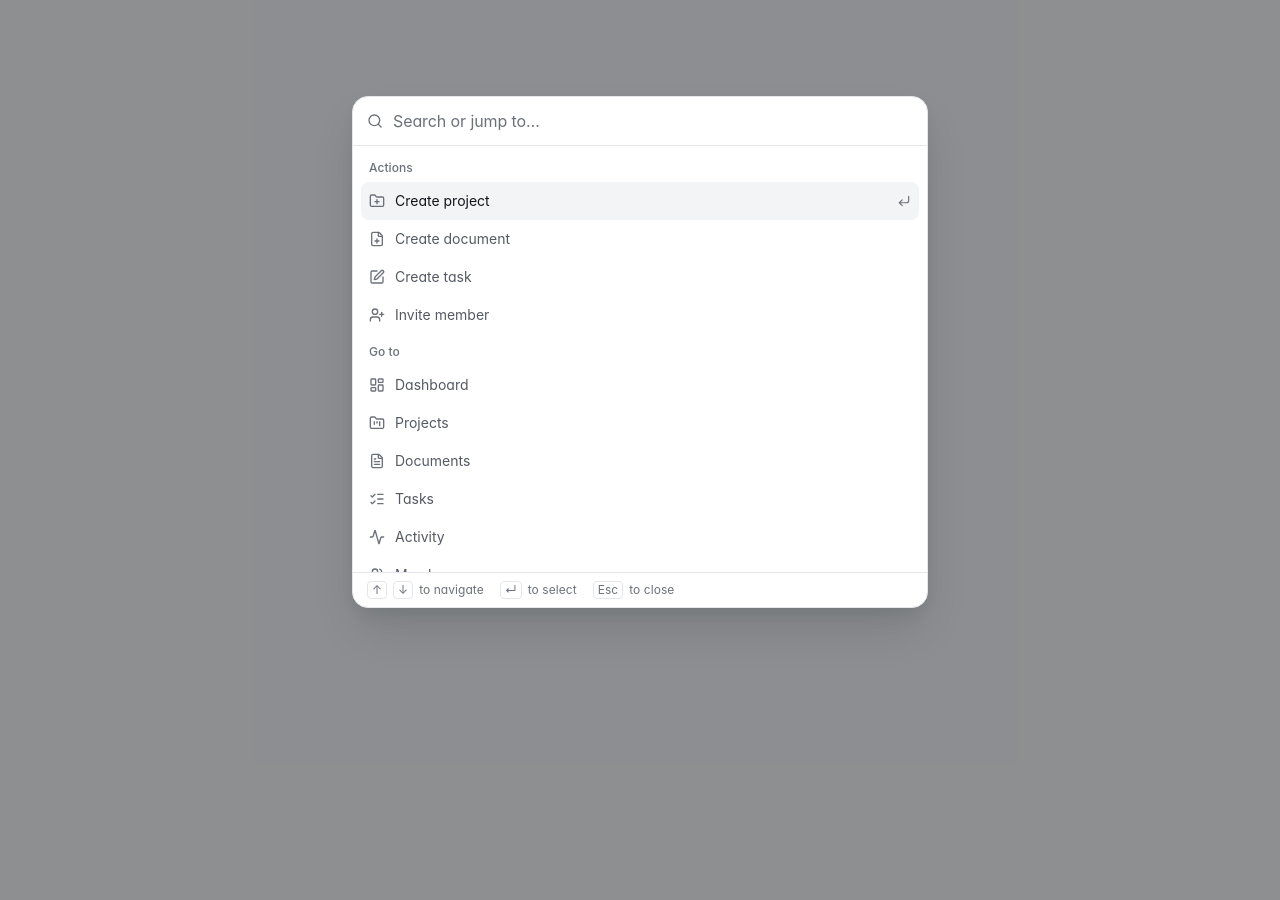
Test: CommandMenu › searching › explains an empty result rather than showing a blank panel
This screenshot has width=1280, height=900.
Type "zzzzqqq" into the dropdown at [653, 121], box [393,97,913,145]
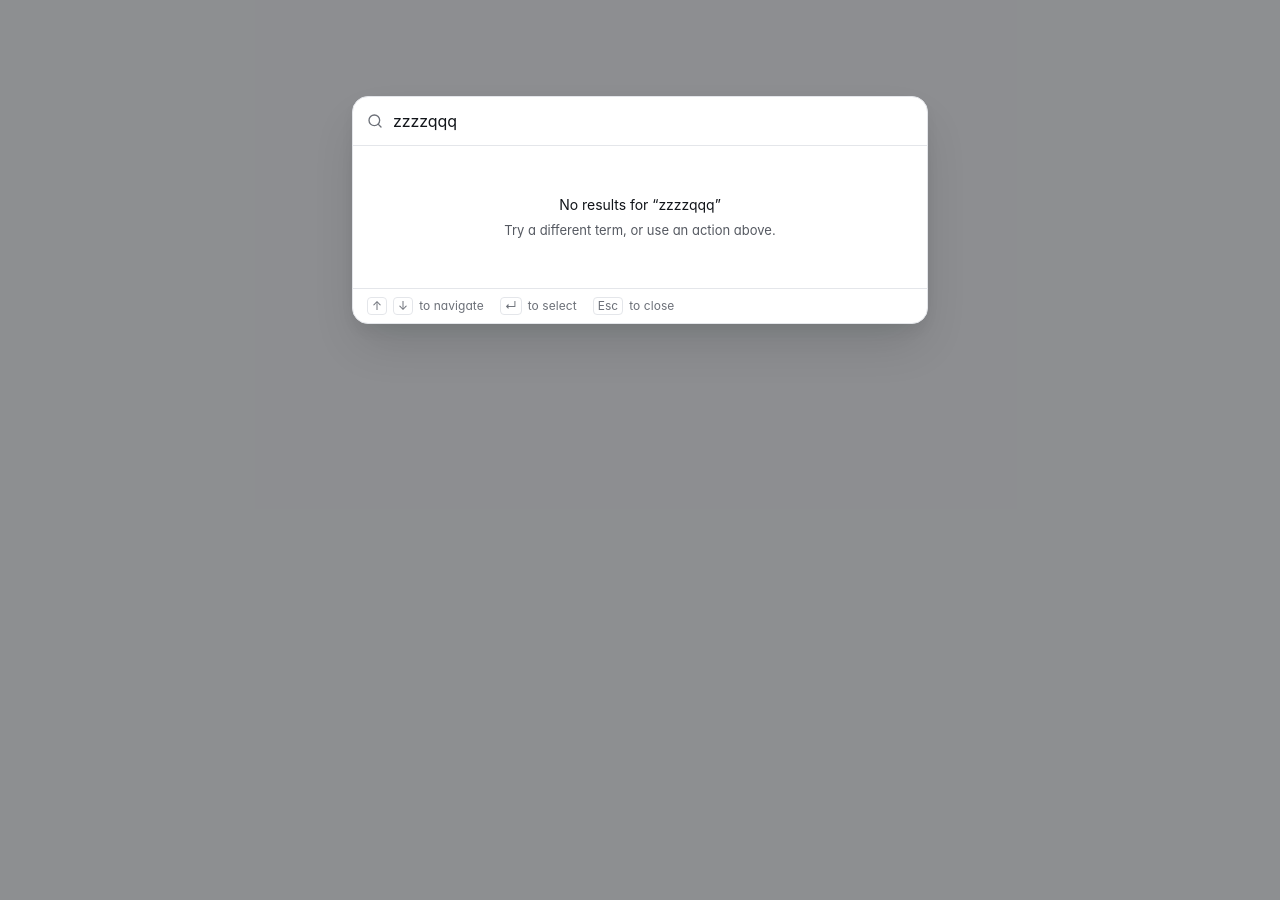
Result: the text "No results for “zzzzqqq”" is shown at [559,196,721,213]
